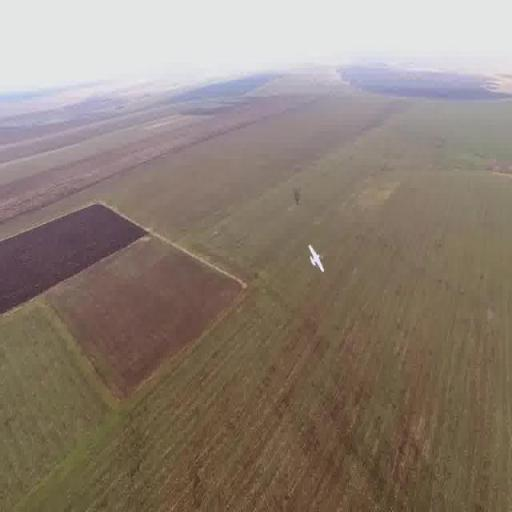uav: (306, 236, 330, 280)
